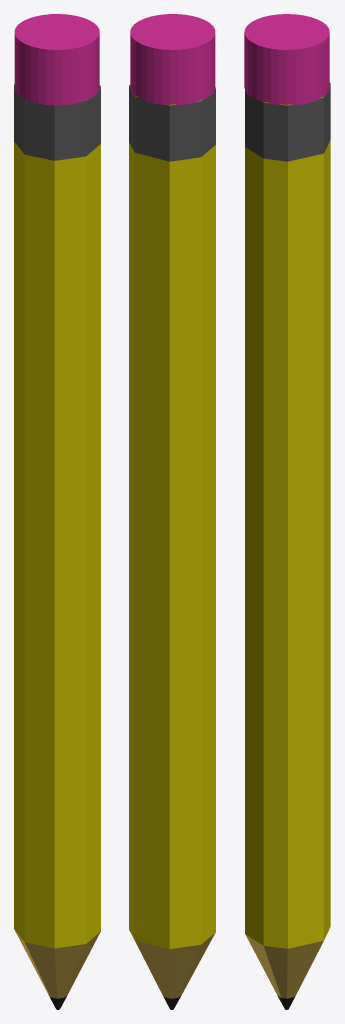
The model's file is pencil.fbx.
3 views of the same model, side by side, from view 1: azimuth 30°, elevation 25°; view 2: azimuth 210°, elevation 25°; view 3: azimuth 270°, elevation 25° (orthographic).
Parts seen in each view (by area): view 1: Circle, eraser; view 2: Circle, eraser; view 3: Circle, eraser.
Part boxes in pixels (<box>): Circle: <box>14,84,100,1009</box>; eraser: <box>14,14,99,105</box>; Circle: <box>129,84,215,1009</box>; eraser: <box>130,14,215,105</box>; Circle: <box>245,82,330,1009</box>; eraser: <box>244,14,329,105</box>.
Size of the model in its own units: 9.64 by 119 by 9.53.
